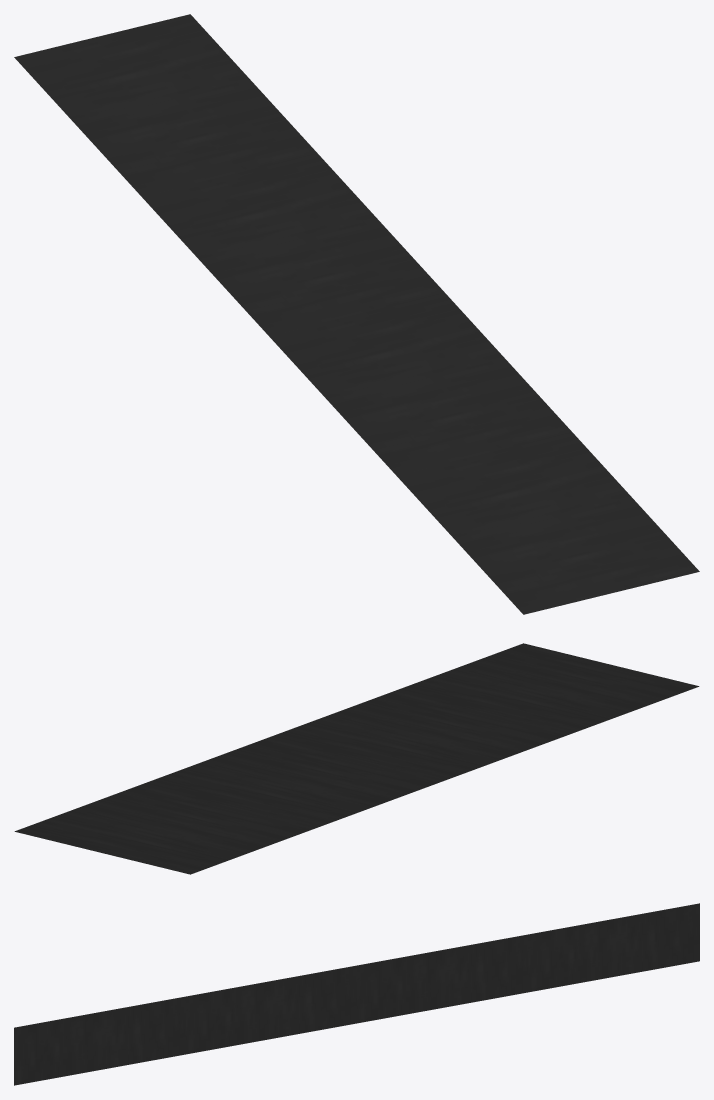
The model's file is SW_ENV_RailTunnelCeiling_TrackRise_Single_20m.fbx.
3 renders of one model, top to bottom at view 1: azimuth 30°, elevation 25°; view 2: azimuth 150°, elevation 25°; view 3: azimuth 270°, elevation 25°, orthographic. The views are drawn at different scales.
Visible parts, largest first — view 1: SW_ENV_RailTunnelCeiling_TrackRise_Single_20m; view 2: SW_ENV_RailTunnelCeiling_TrackRise_Single_20m; view 3: SW_ENV_RailTunnelCeiling_TrackRise_Single_20m.
Boxes of the visible parts, left/top/right/bottom form: SW_ENV_RailTunnelCeiling_TrackRise_Single_20m: left=14, top=14, right=699, bottom=614; SW_ENV_RailTunnelCeiling_TrackRise_Single_20m: left=14, top=643, right=699, bottom=874; SW_ENV_RailTunnelCeiling_TrackRise_Single_20m: left=14, top=903, right=699, bottom=1085.
Size of the model in its own units: 400 by 400 by 2000.
